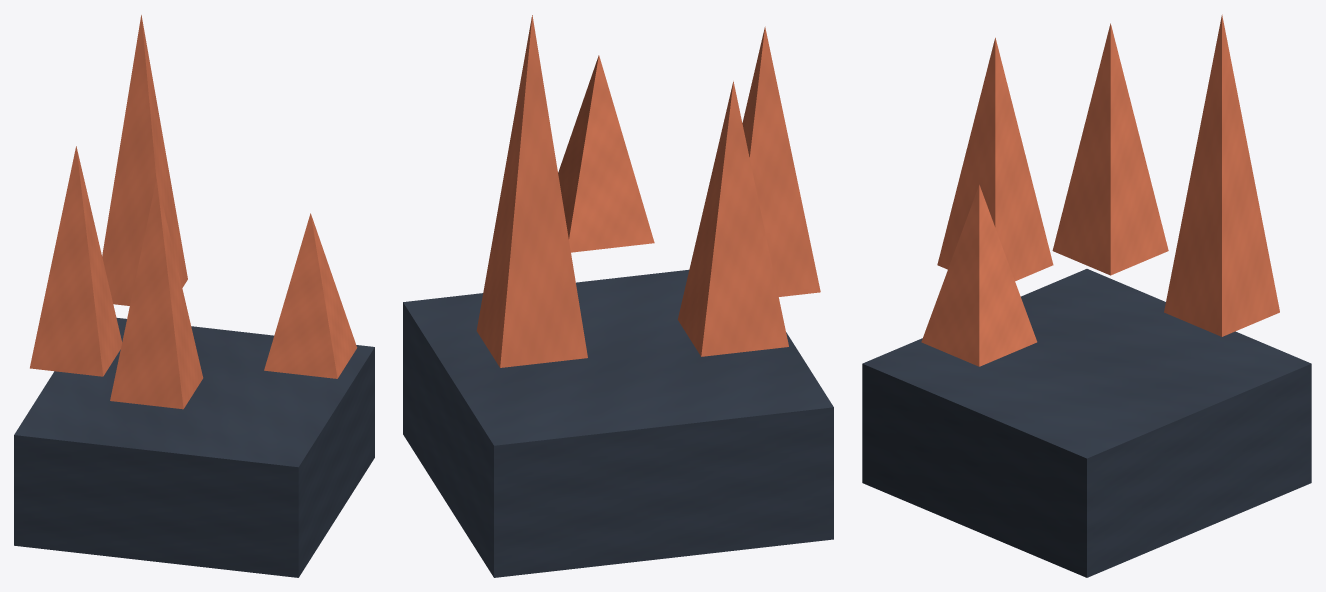
The model's file is atlas100-s021-a12.lod1.glb.
3 renders of one model, left to right at view 1: azimuth 30°, elevation 25°; view 2: azimuth 150°, elevation 25°; view 3: azimuth 270°, elevation 25°, orthographic. The views are drawn at different scales.
Parts seen in each view (by area): view 1: atlas100-s021-a12:part-000, atlas100-s021-a12:part-002, atlas100-s021-a12:part-005, atlas100-s021-a12:part-003, atlas100-s021-a12:part-004; view 2: atlas100-s021-a12:part-000, atlas100-s021-a12:part-003, atlas100-s021-a12:part-005, atlas100-s021-a12:part-004, atlas100-s021-a12:part-002; view 3: atlas100-s021-a12:part-000, atlas100-s021-a12:part-003, atlas100-s021-a12:part-005, atlas100-s021-a12:part-002, atlas100-s021-a12:part-004.
Part boxes in pixels (x1,y1,x2,y2): atlas100-s021-a12:part-000: (14, 317, 374, 577); atlas100-s021-a12:part-002: (110, 178, 203, 409); atlas100-s021-a12:part-005: (30, 146, 122, 376); atlas100-s021-a12:part-003: (102, 15, 187, 305); atlas100-s021-a12:part-004: (264, 213, 357, 378); atlas100-s021-a12:part-000: (403, 269, 833, 577); atlas100-s021-a12:part-003: (476, 15, 587, 367); atlas100-s021-a12:part-005: (677, 81, 788, 356); atlas100-s021-a12:part-004: (558, 55, 654, 252); atlas100-s021-a12:part-002: (742, 26, 820, 296); atlas100-s021-a12:part-000: (862, 269, 1311, 577); atlas100-s021-a12:part-003: (1164, 14, 1279, 336); atlas100-s021-a12:part-005: (1052, 23, 1168, 275); atlas100-s021-a12:part-002: (937, 37, 1053, 281); atlas100-s021-a12:part-004: (921, 185, 1037, 366).
Bounding box in the file's own units: 1.16 × 1.35 × 1.16.
2 materials, 2 textured.
